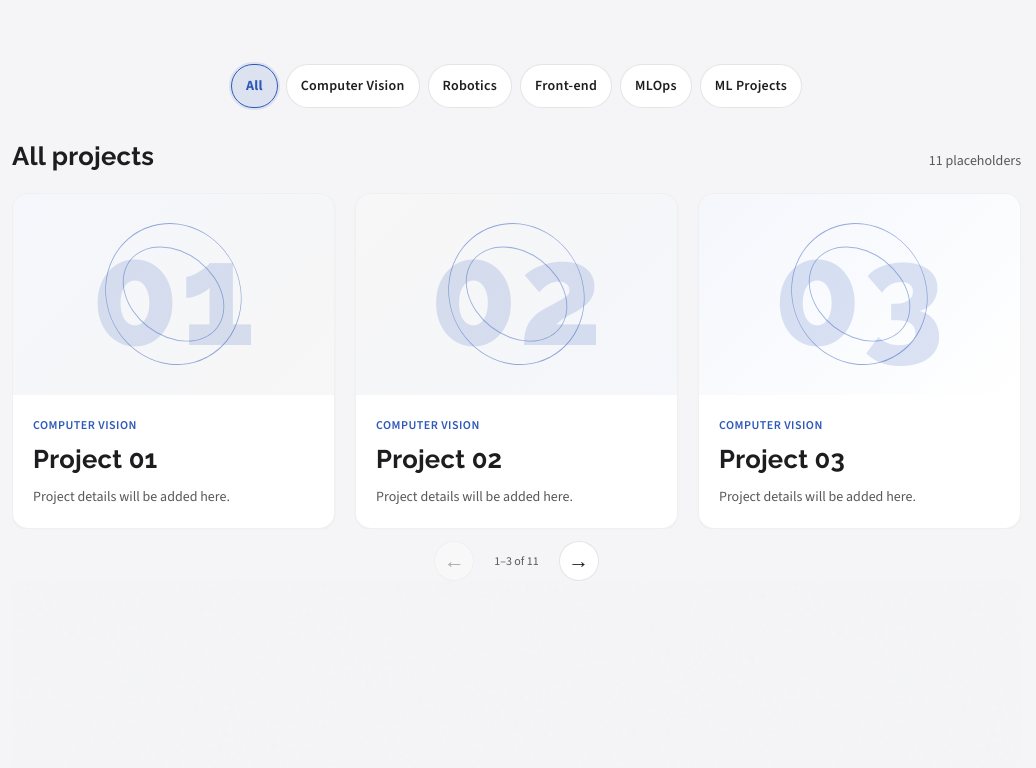
Scenario: ProjectsShowcase › filters the requested placeholder categories
Click the button "Computer Vision" at (353, 86), box [286,64,420,108]
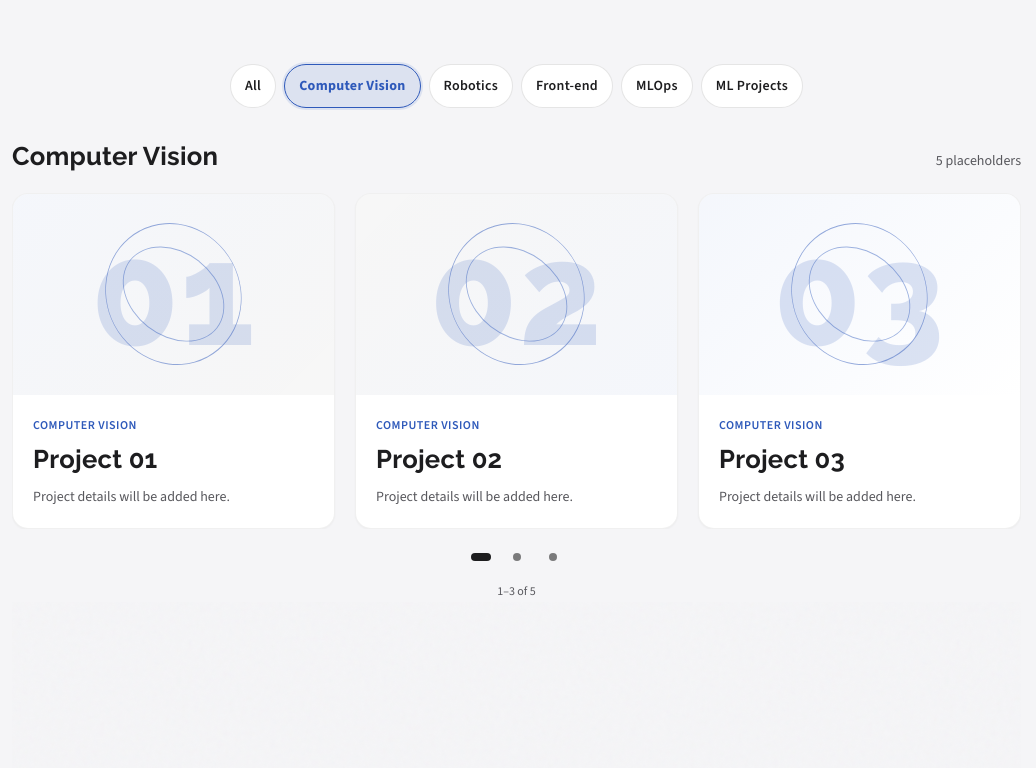
Expected: the heading "Computer Vision" is shown, [12,140,218,173]
Click the button "Robotics" at (471, 86), box [428,64,513,108]
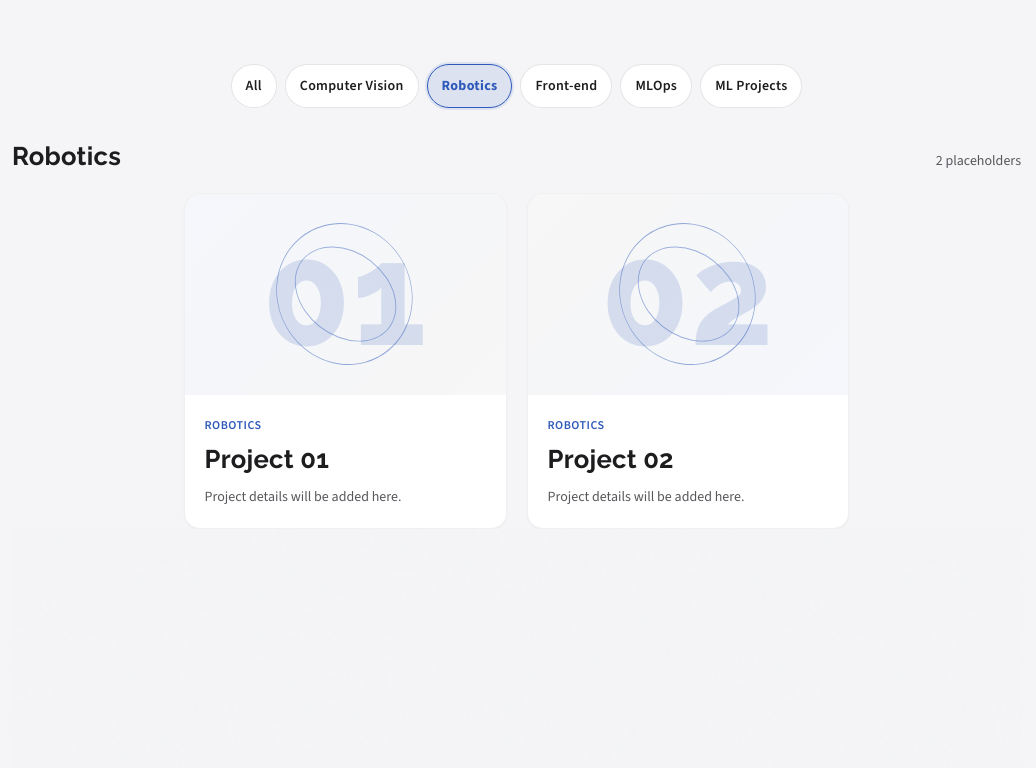
Expected: the heading "Robotics" is shown, [12,140,121,173]
Click the button "Front-end" at (566, 86), box [520,64,612,108]
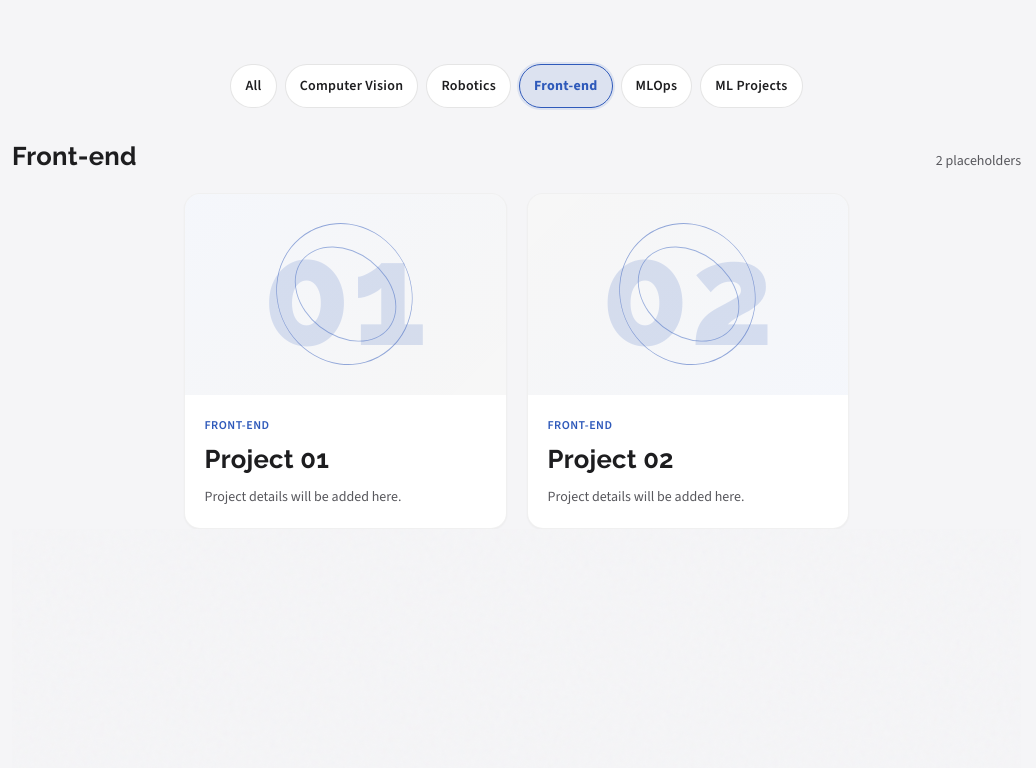
Expected: the heading "Front-end" is shown, [12,140,137,173]
Click the button "MLOps" at (656, 86), box [621,64,692,108]
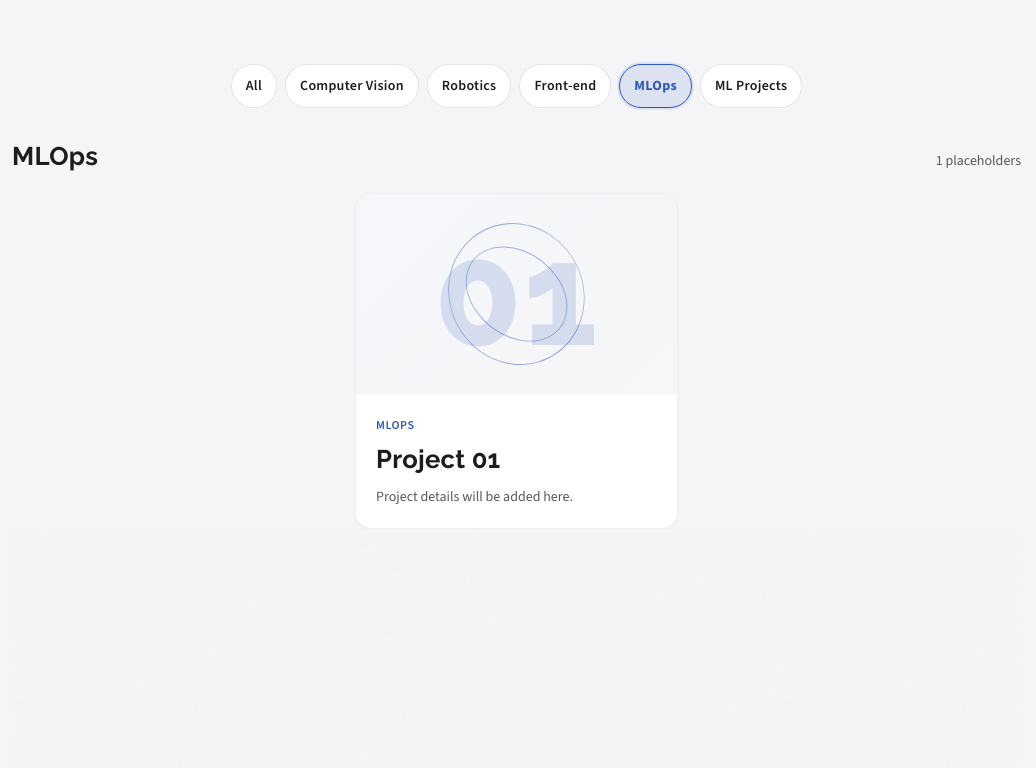
Expected: the heading "MLOps" is shown, [12,140,98,173]
Click the button "ML Projects" at (751, 86), box [700,64,802,108]
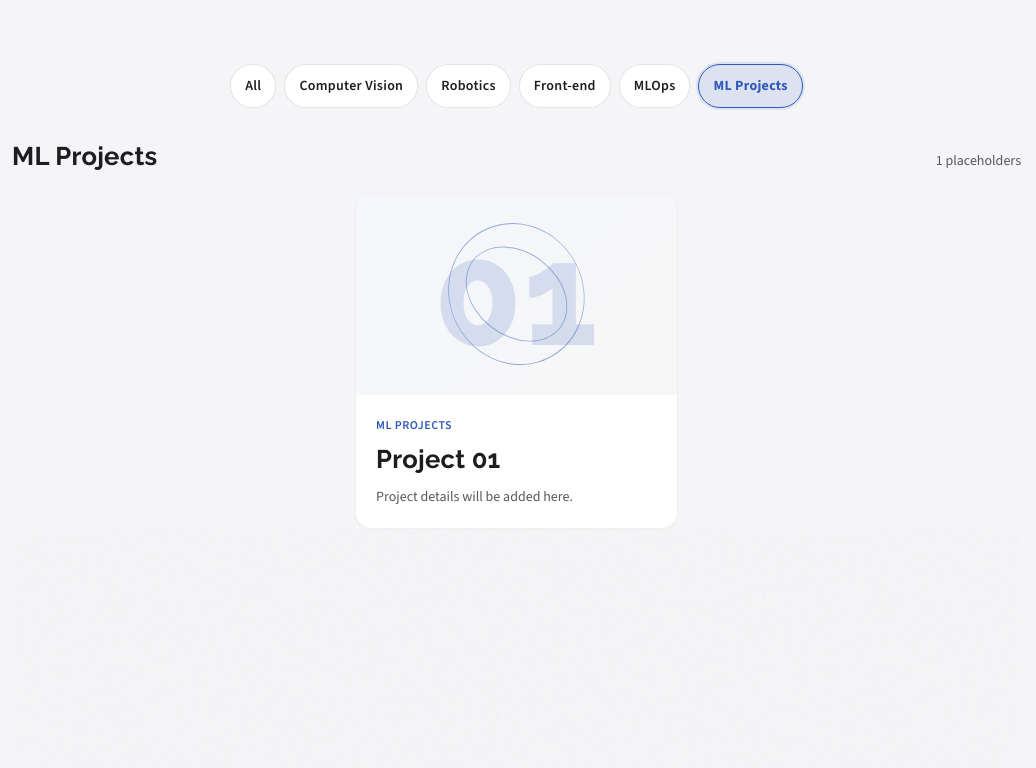
Expected: the heading "ML Projects" is shown, [12,140,157,173]
